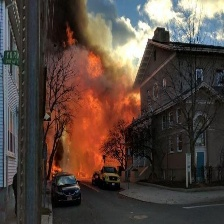fire: (77, 60, 126, 178)
smoke: (51, 1, 139, 87)
